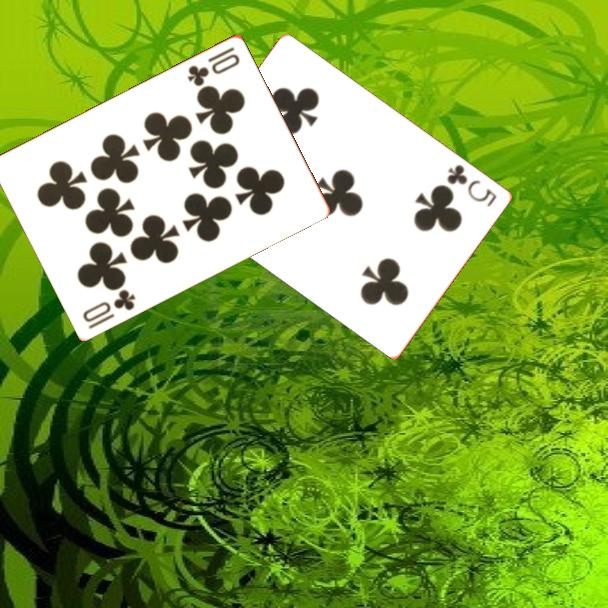c05: (443, 161, 500, 210)
c10: (79, 285, 139, 332), (184, 43, 243, 89)
